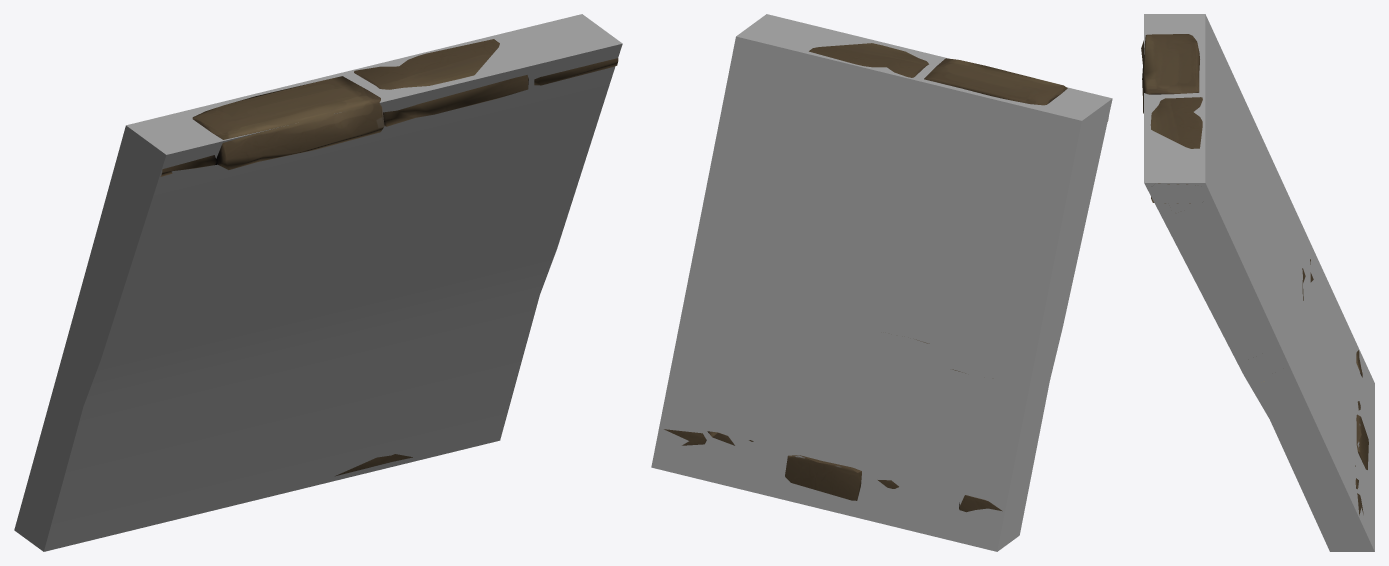
Rendered from sm_TempleInterior_Wall.fbx.
3 renders of one model, left to right at view 1: azimuth 30°, elevation 25°; view 2: azimuth 150°, elevation 25°; view 3: azimuth 270°, elevation 25°, orthographic. The views are drawn at different scales.
Parts seen in each view (by area): view 1: sm_TempleInterior_Wall_Col, sm_TempleInterior_Wall_LOD00; view 2: sm_TempleInterior_Wall_Col, sm_TempleInterior_Wall_LOD00; view 3: sm_TempleInterior_Wall_Col, sm_TempleInterior_Wall_LOD00.
Boxes of the visible parts, x1,y1,x2,y2 form: sm_TempleInterior_Wall_Col: (14, 14, 622, 551); sm_TempleInterior_Wall_LOD00: (160, 39, 618, 476); sm_TempleInterior_Wall_Col: (651, 14, 1112, 551); sm_TempleInterior_Wall_LOD00: (664, 43, 1108, 512); sm_TempleInterior_Wall_Col: (1144, 14, 1374, 551); sm_TempleInterior_Wall_LOD00: (1141, 34, 1368, 515).
Size of what is drawn, in the model's own units: 400 by 411 by 234.
